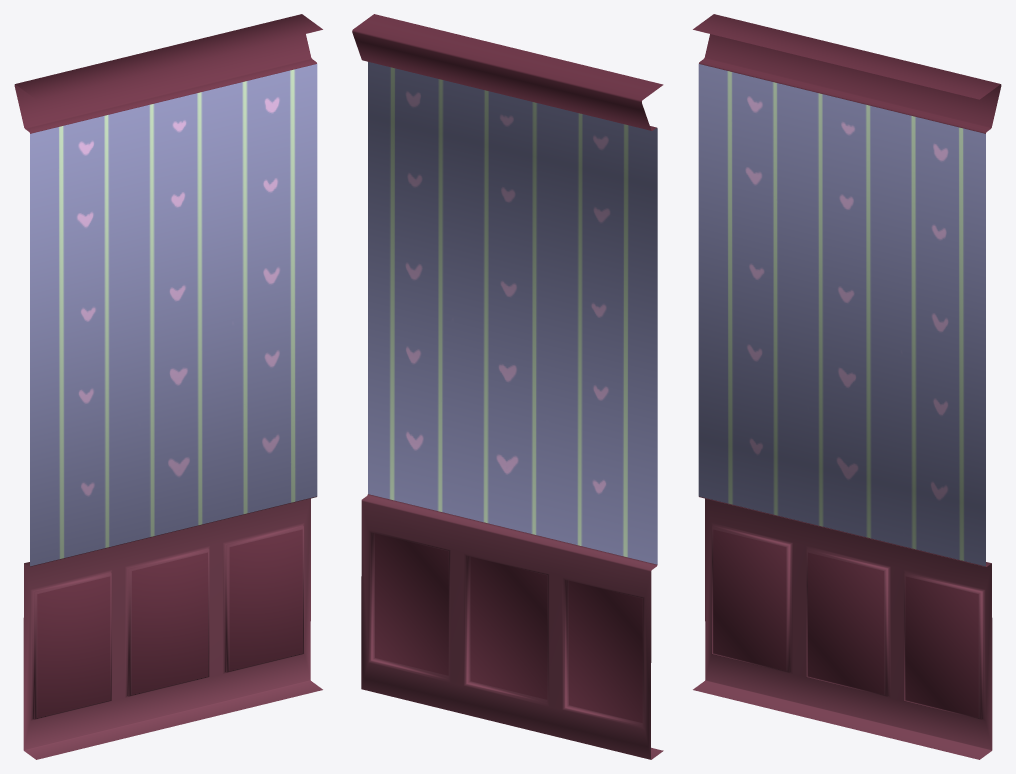
Rendered from Wall.fbx.
The picture shows the model from 3 angles, left to right: view 1: azimuth 30°, elevation 25°; view 2: azimuth 150°, elevation 25°; view 3: azimuth 330°, elevation 25°; orthographic projection.
Visible parts, largest first — view 1: wallFlat; view 2: wallFlat; view 3: wallFlat.
Part boxes in pixels (bbox=[...]): wallFlat: bbox=[14, 14, 322, 759]; wallFlat: bbox=[352, 14, 663, 759]; wallFlat: bbox=[693, 14, 1001, 759].
Bounding box in the file's own units: 400 × 879 × 52.78.
